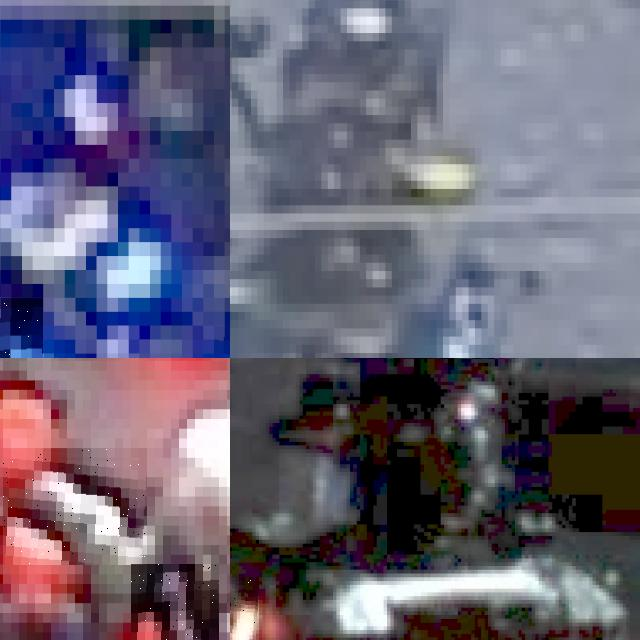R3: (3, 448, 147, 565), (131, 564, 219, 640)
Rs: (230, 577, 259, 640)
